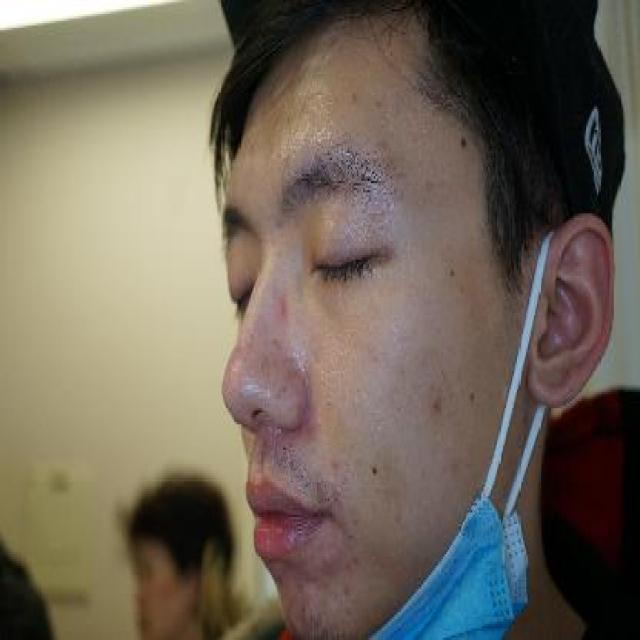blackheads: (376, 132, 392, 156)
dark spot: (422, 388, 449, 432)
nodules: (289, 580, 334, 630)
papules: (329, 452, 340, 476), (349, 90, 360, 104)
pustules: (329, 482, 345, 501)
